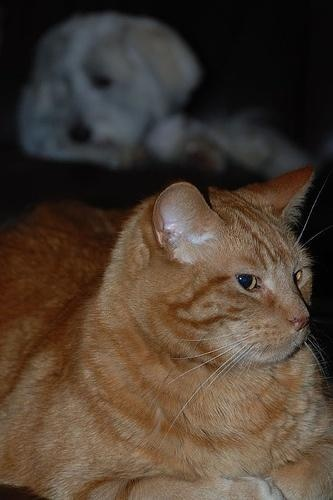cat: (1, 163, 328, 500)
dog: (17, 12, 313, 182)
